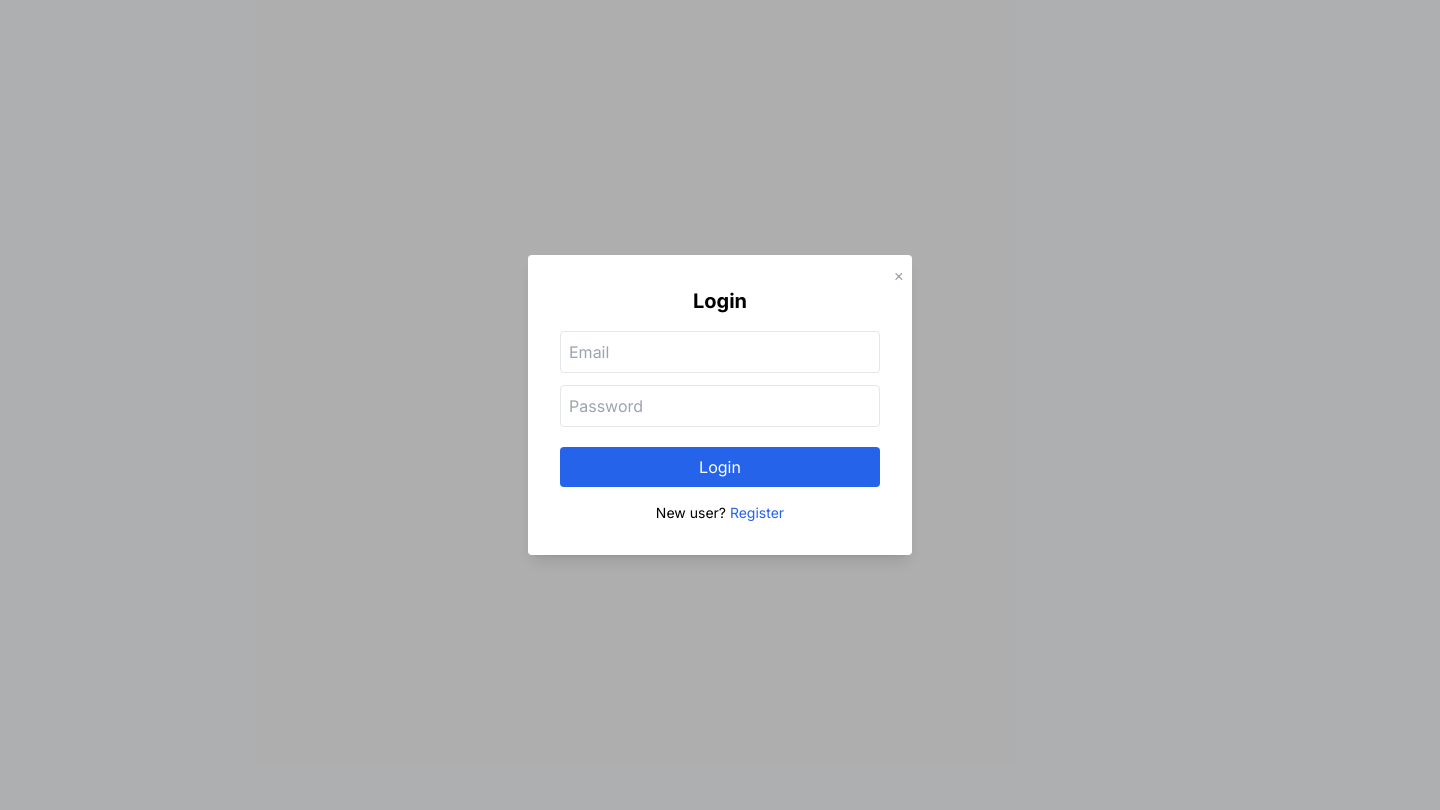
Test case: AuthModal › displays error on failed submit
In the field with placeholder "Email": (720, 352) [560, 331, 880, 373], type "a@b.com"
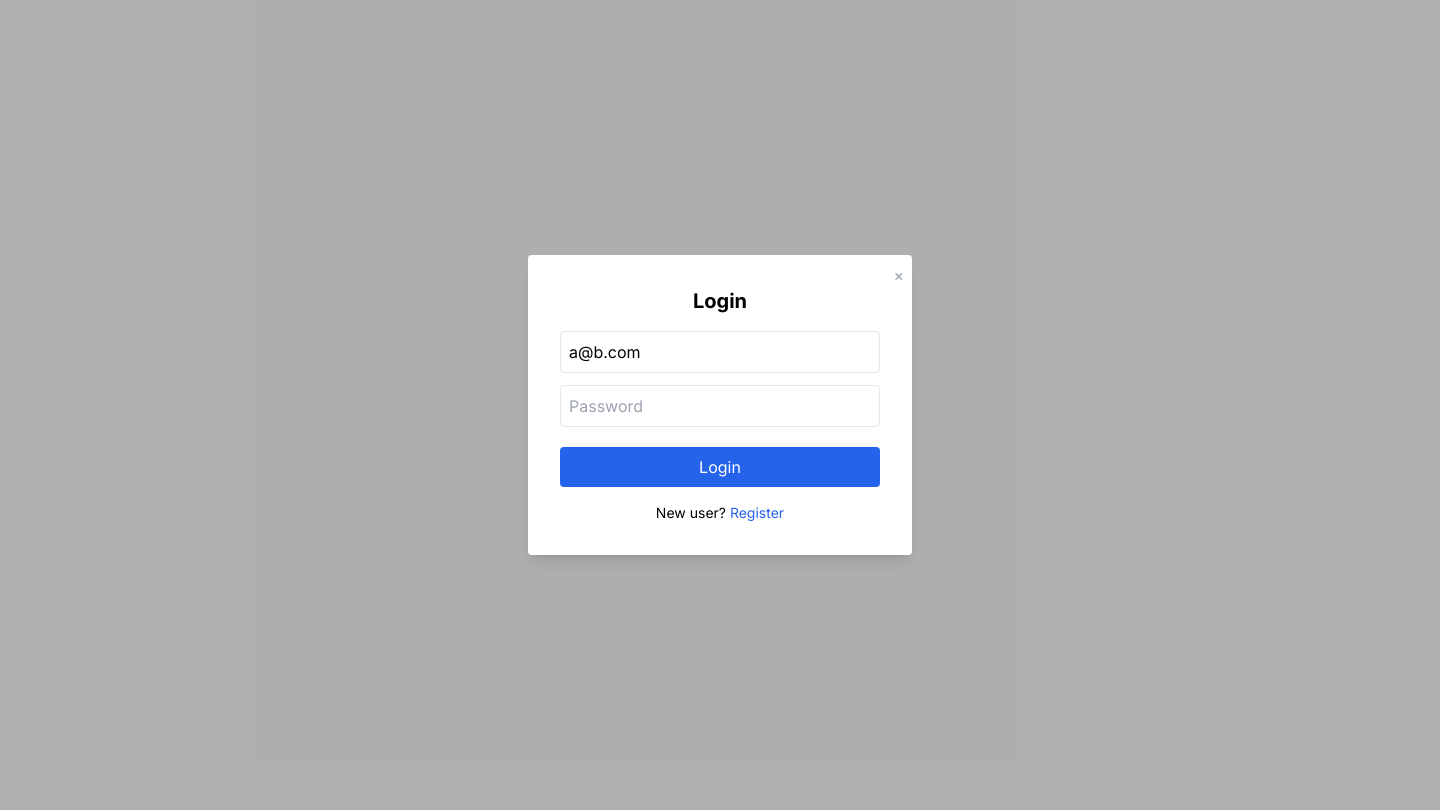
In the password field with placeholder "Password": (720, 406) [560, 385, 880, 427], type "badpass"
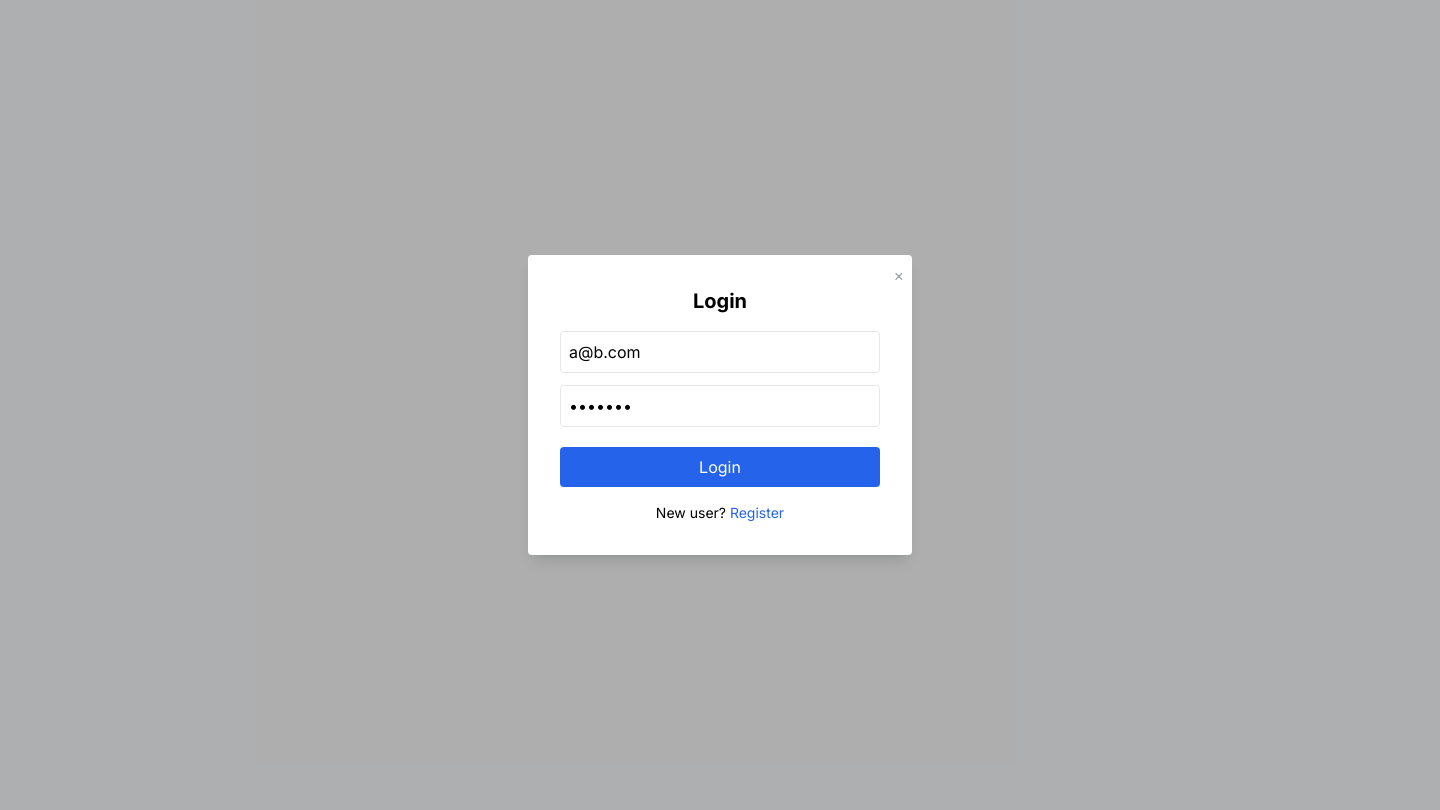
Click the button "Login": (720, 467) [560, 447, 880, 487]
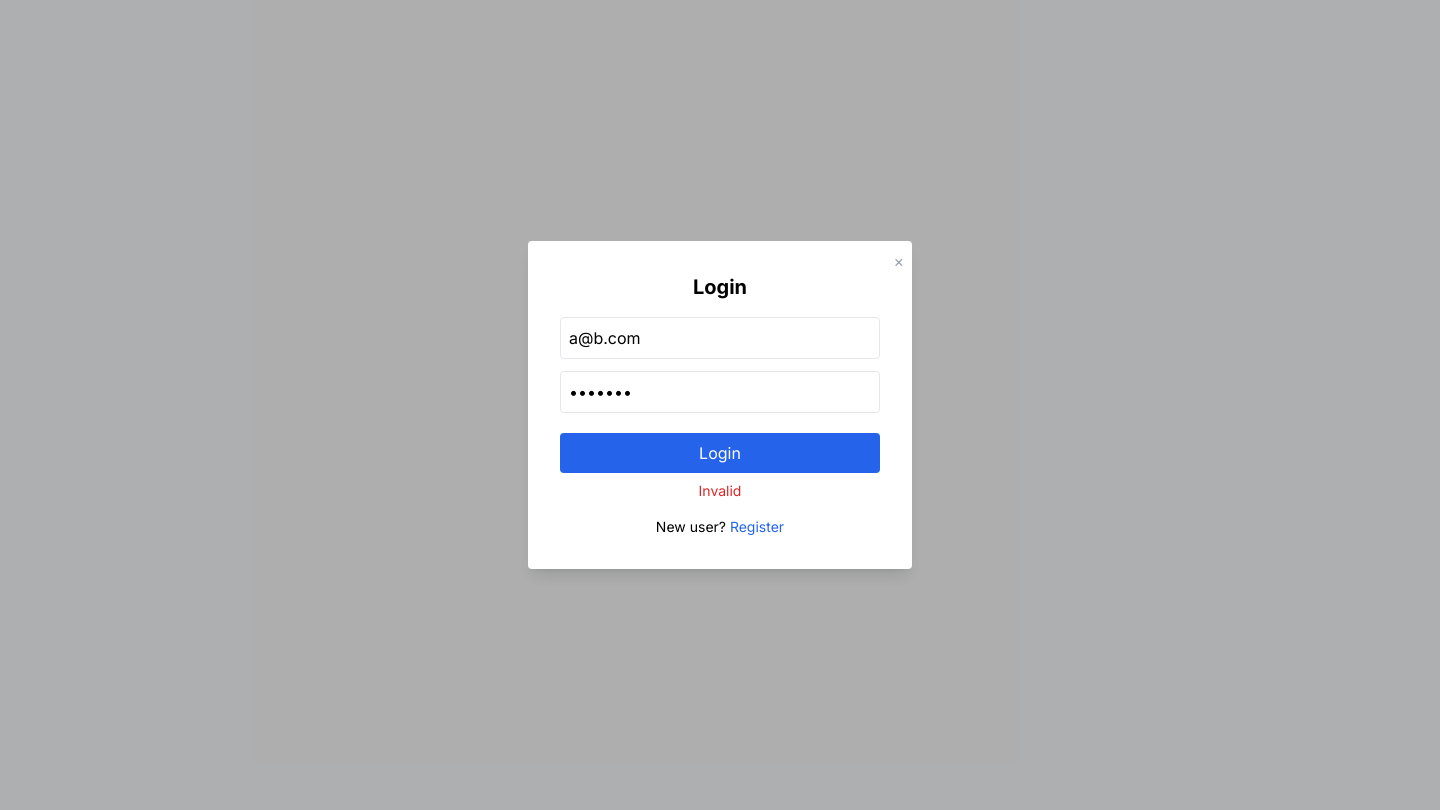
Check: the text "Invalid" is shown, box [699, 482, 741, 499]
